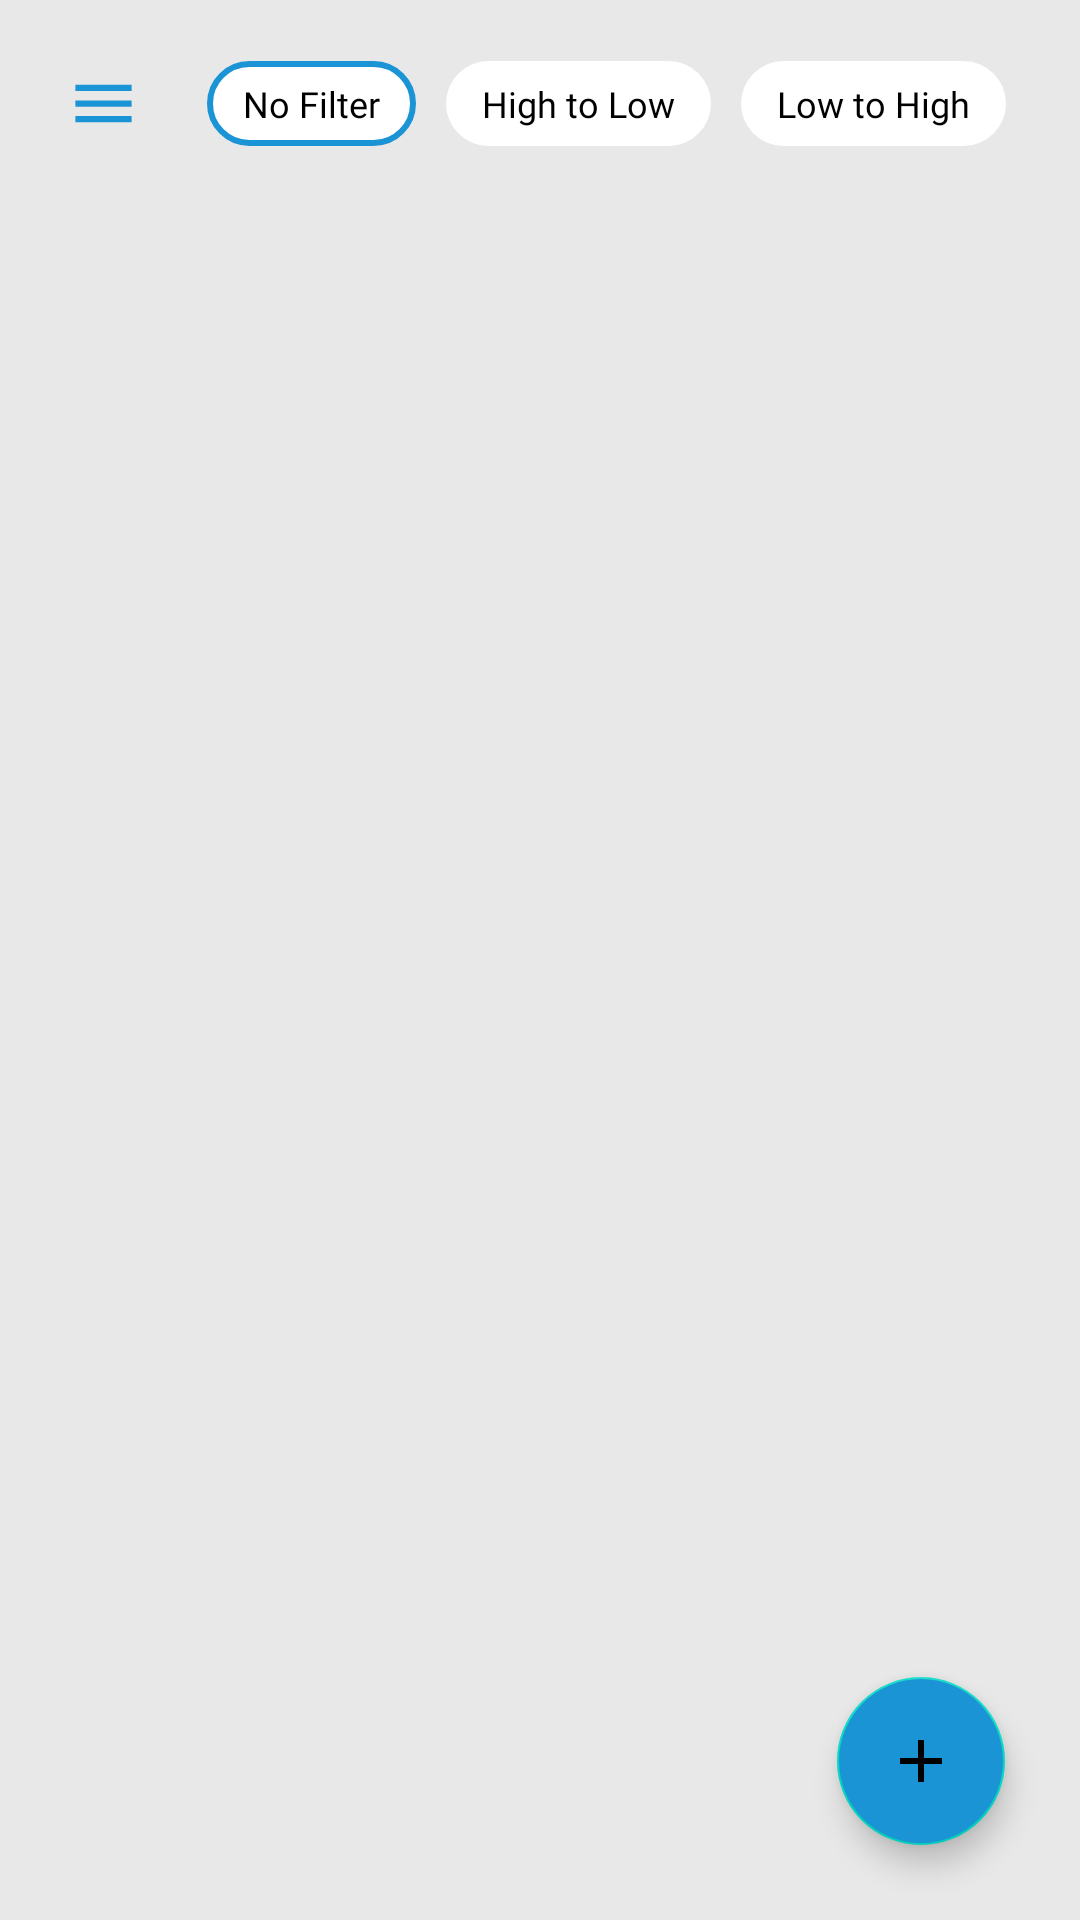

Icon bounding boxes for this 1080x1920 phone screenshot, format box(x1, y1, x2, y2):
add: box(837, 1677, 1005, 1845)
menu: box(75, 84, 132, 123)
